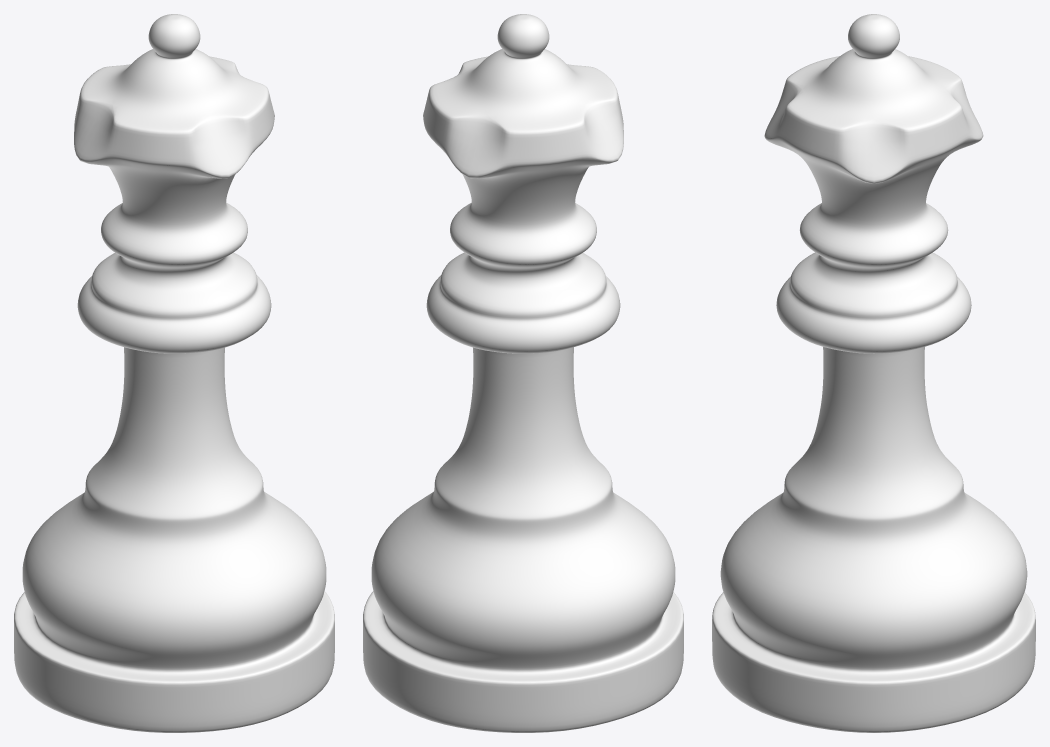
Rendered from Queen.obj.
3 renders of one model, left to right at view 1: azimuth 30°, elevation 25°; view 2: azimuth 150°, elevation 25°; view 3: azimuth 270°, elevation 25°, orthographic.
Parts seen in each view (by area): view 1: Queen; view 2: Queen; view 3: Queen.
Part boxes in pixels (left/top/right/bottom): Queen: left=14, top=14, right=334, bottom=732; Queen: left=363, top=14, right=683, bottom=732; Queen: left=712, top=14, right=1035, bottom=732.
Size of the model in its own units: 0.7094 by 1.57 by 0.7094.
1 material, 1 textured.
